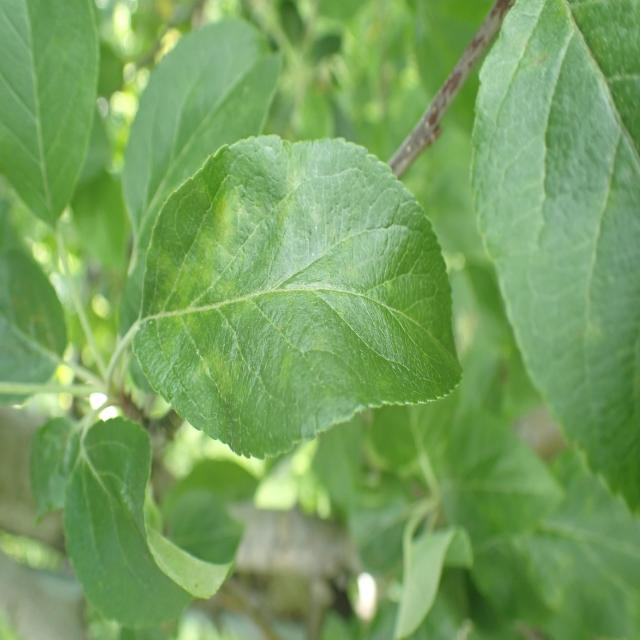scab: (166, 165, 434, 414)
